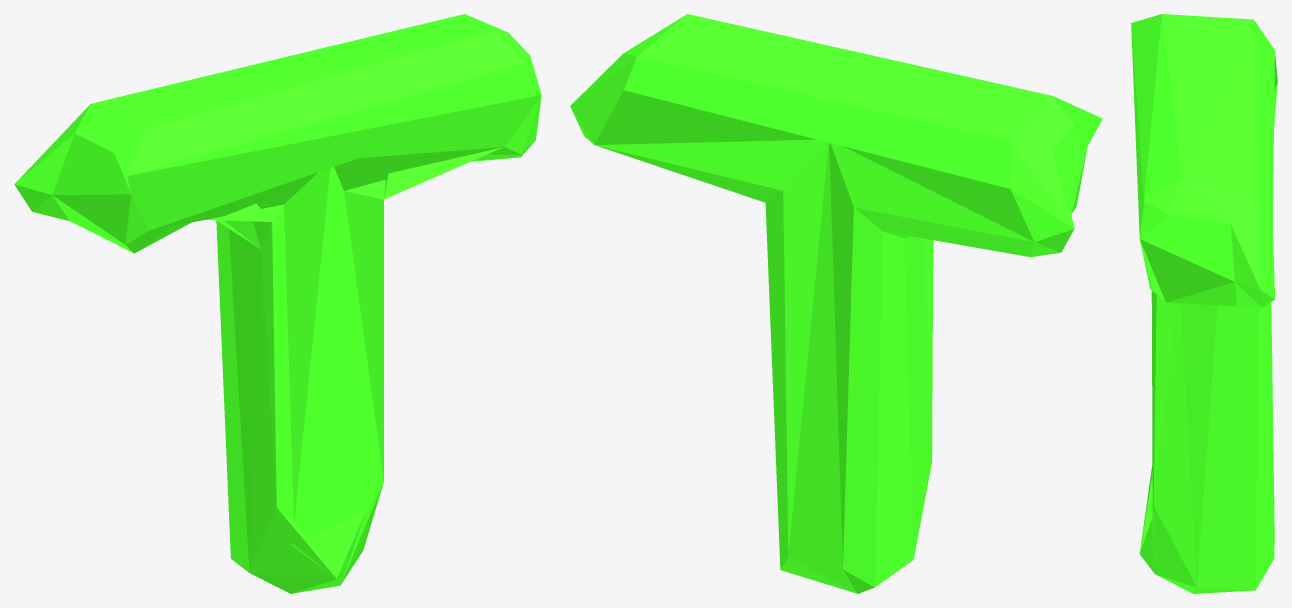
File: Buchstabe.fbx
3 views of the same model, side by side, from view 1: azimuth 30°, elevation 25°; view 2: azimuth 150°, elevation 25°; view 3: azimuth 270°, elevation 25° (orthographic). The views are drawn at different scales.
Parts seen in each view (by area): view 1: Cube; view 2: Cube; view 3: Cube.
Boxes of the visible parts, x1,y1,x2,y2 form: Cube: [14, 14, 541, 593]; Cube: [570, 14, 1102, 593]; Cube: [1131, 14, 1277, 593].
Size of the model in its own units: 17.11 by 16.31 by 4.48.
